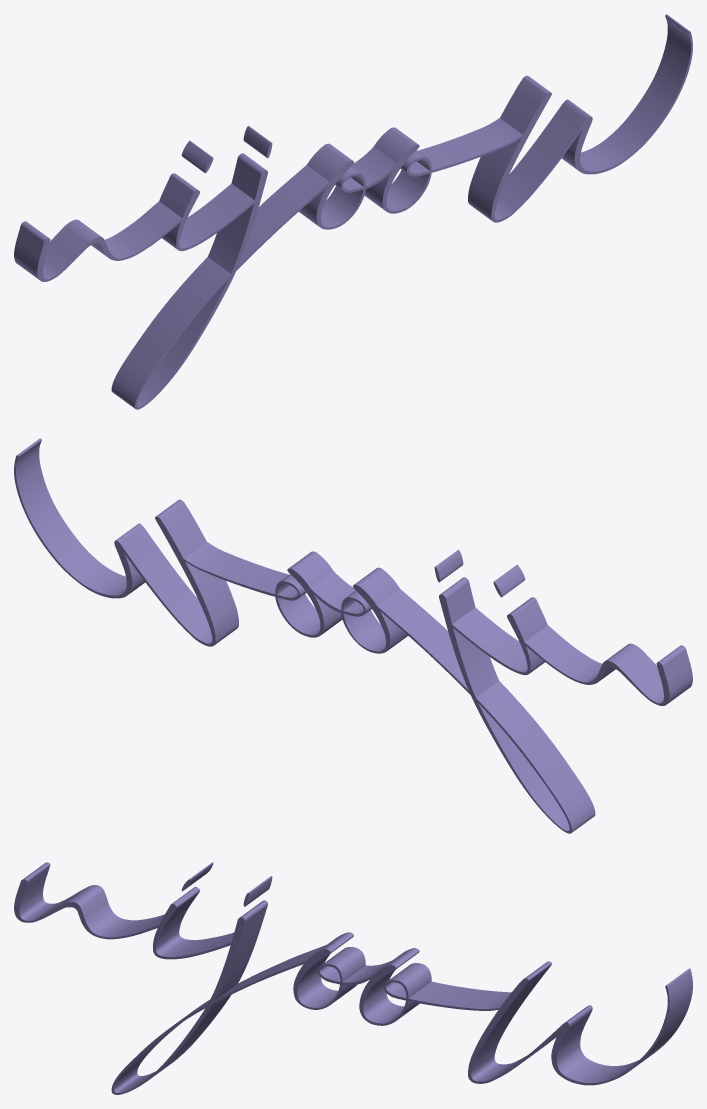
The model's file is nijoowPurple.glb.
The picture shows the model from 3 angles, top to bottom: view 1: azimuth 30°, elevation 25°; view 2: azimuth 150°, elevation 25°; view 3: azimuth 330°, elevation 25°; orthographic projection.
Parts seen in each view (by area): view 1: Curve.003; view 2: Curve.003; view 3: Curve.003.
Part boxes in pixels (x1,y1,x2,y2): Curve.003: (14,14,692,409); Curve.003: (14,438,692,833); Curve.003: (14,862,692,1094).
Bounding box in the file's own units: 13.45 × 4.78 × 0.8292.
